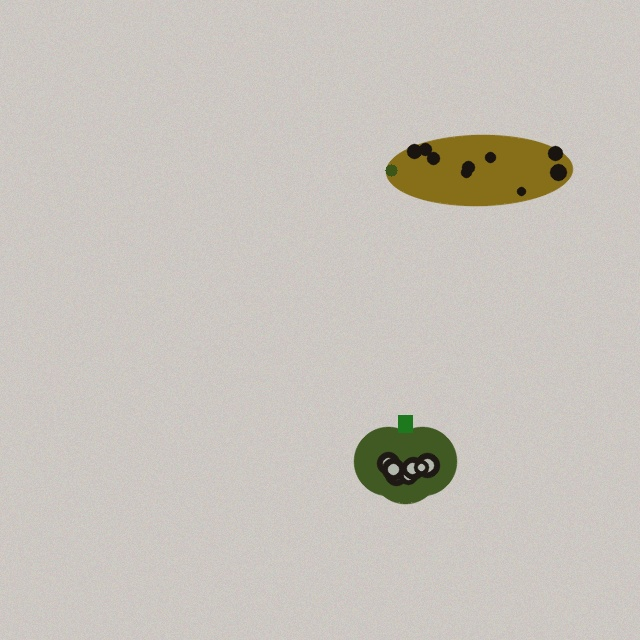Rotten banana: (382, 127, 576, 213)
Rotten bell pepper: (354, 415, 456, 503)
